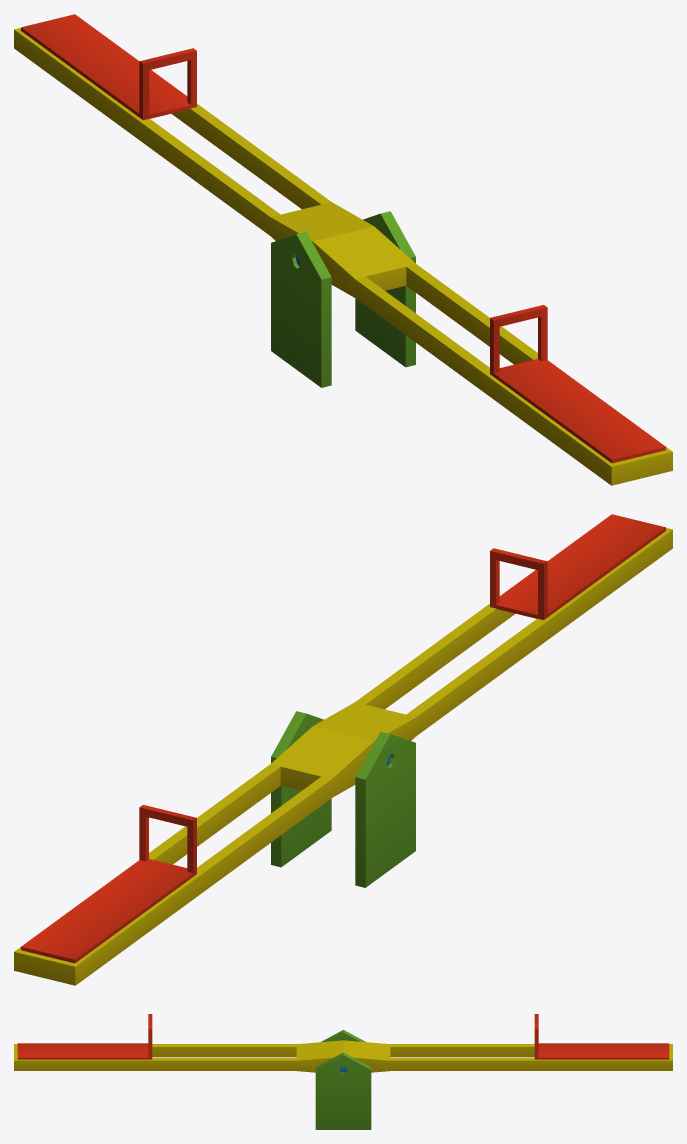
File: Jungkat-Jungkit.fbx
3 views of the same model, one above another, from view 1: azimuth 30°, elevation 25°; view 2: azimuth 150°, elevation 25°; view 3: azimuth 270°, elevation 25° (orthographic). The views are drawn at different scales.
Parts seen in each view (by area): view 1: JungkatJungkit_LOD0, JungkatJungkit1_LOD0; view 2: JungkatJungkit_LOD0, JungkatJungkit1_LOD0; view 3: JungkatJungkit_LOD0, JungkatJungkit1_LOD0.
Part boxes in pixels (bbox=[...]): JungkatJungkit_LOD0: bbox=[14, 14, 672, 485]; JungkatJungkit1_LOD0: bbox=[271, 211, 415, 387]; JungkatJungkit_LOD0: bbox=[14, 514, 672, 985]; JungkatJungkit1_LOD0: bbox=[271, 711, 415, 887]; JungkatJungkit_LOD0: bbox=[14, 1014, 672, 1072]; JungkatJungkit1_LOD0: bbox=[315, 1030, 371, 1129].
Size of what is drawn, in the model's own units: 44.32 by 77.93 by 486.
